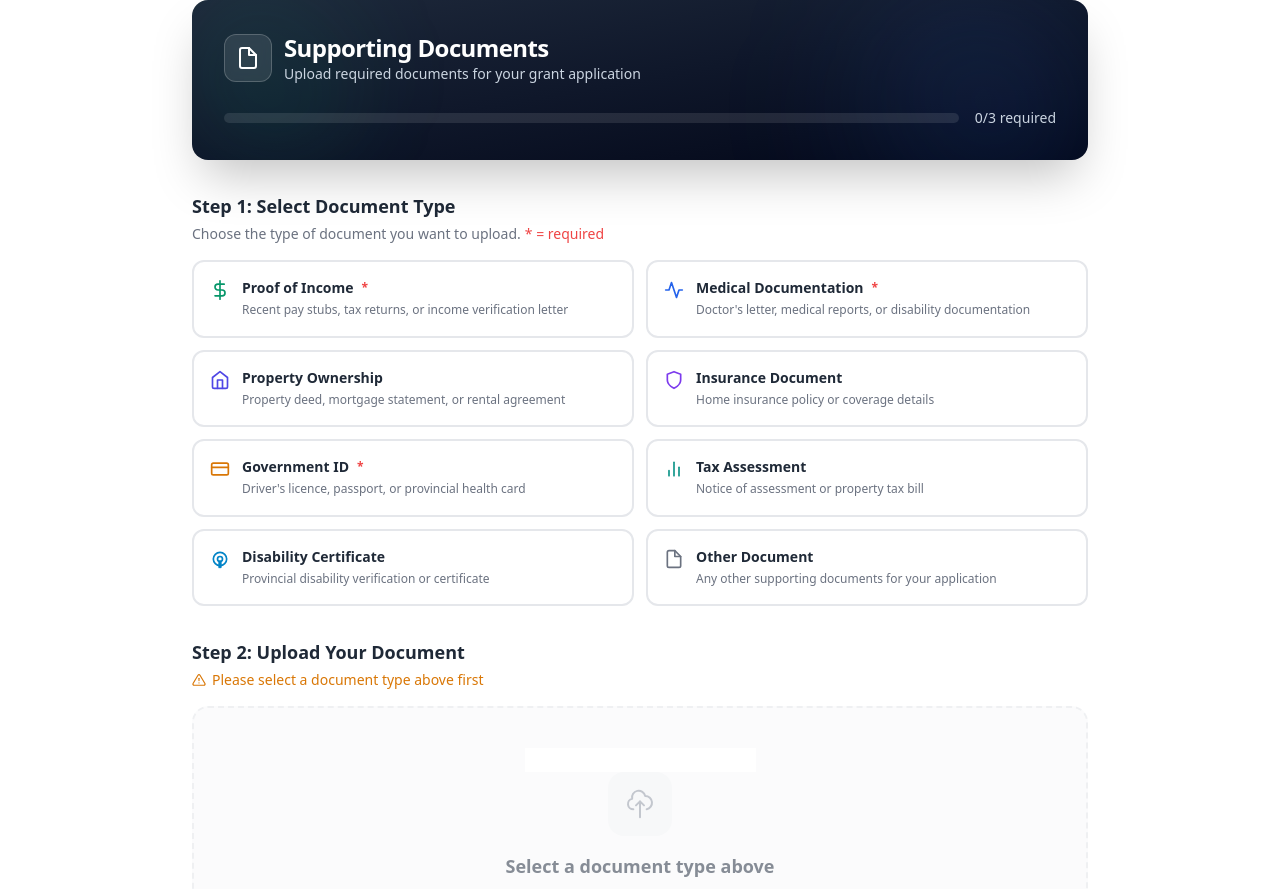
Test: DocumentUploadInterface › updates UI when a category is selected
This screenshot has width=1280, height=889.
Note: Click on "Proof of Income"
Click the button "Proof of Income": (413, 299) 192,260 -> 634,338
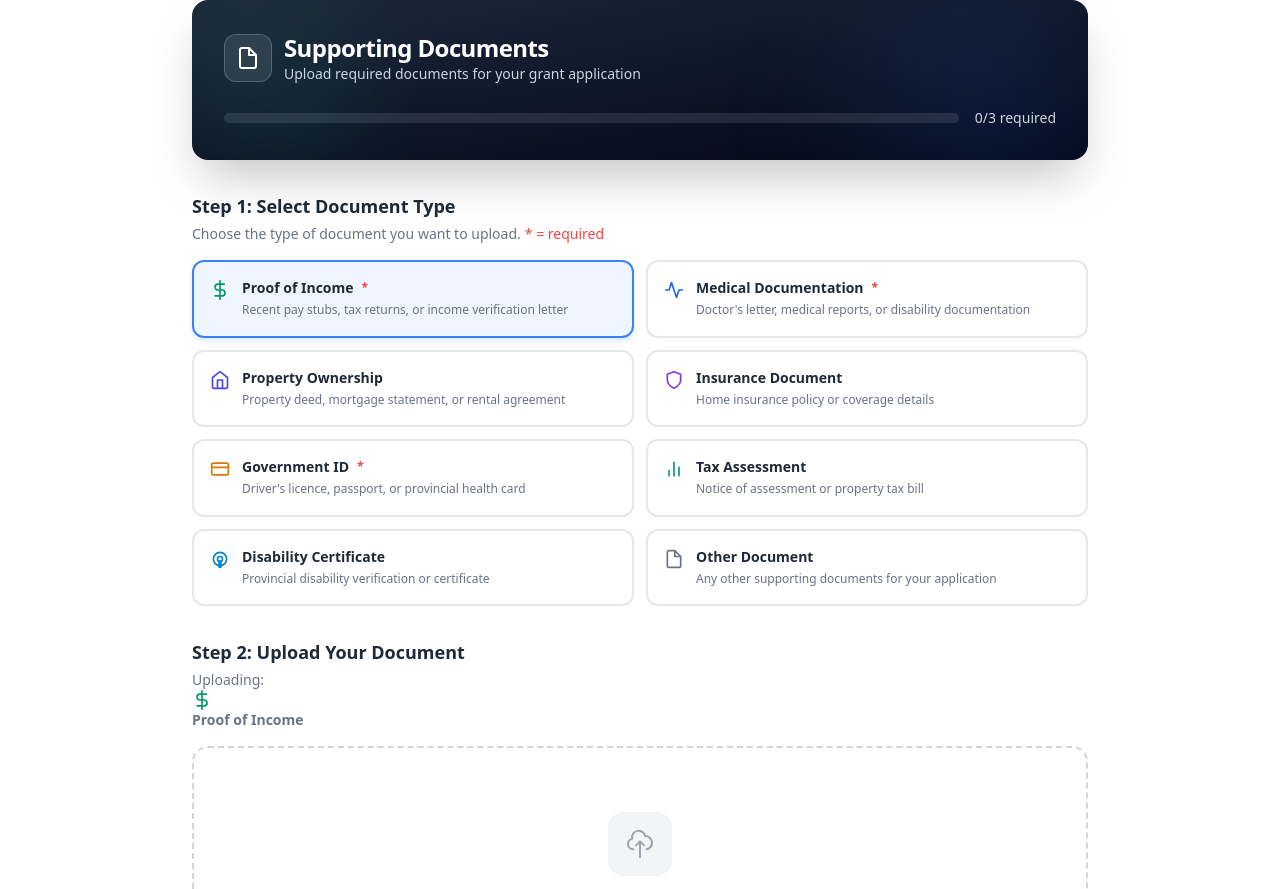
Check: the text "Please select a document type above first" is gone
